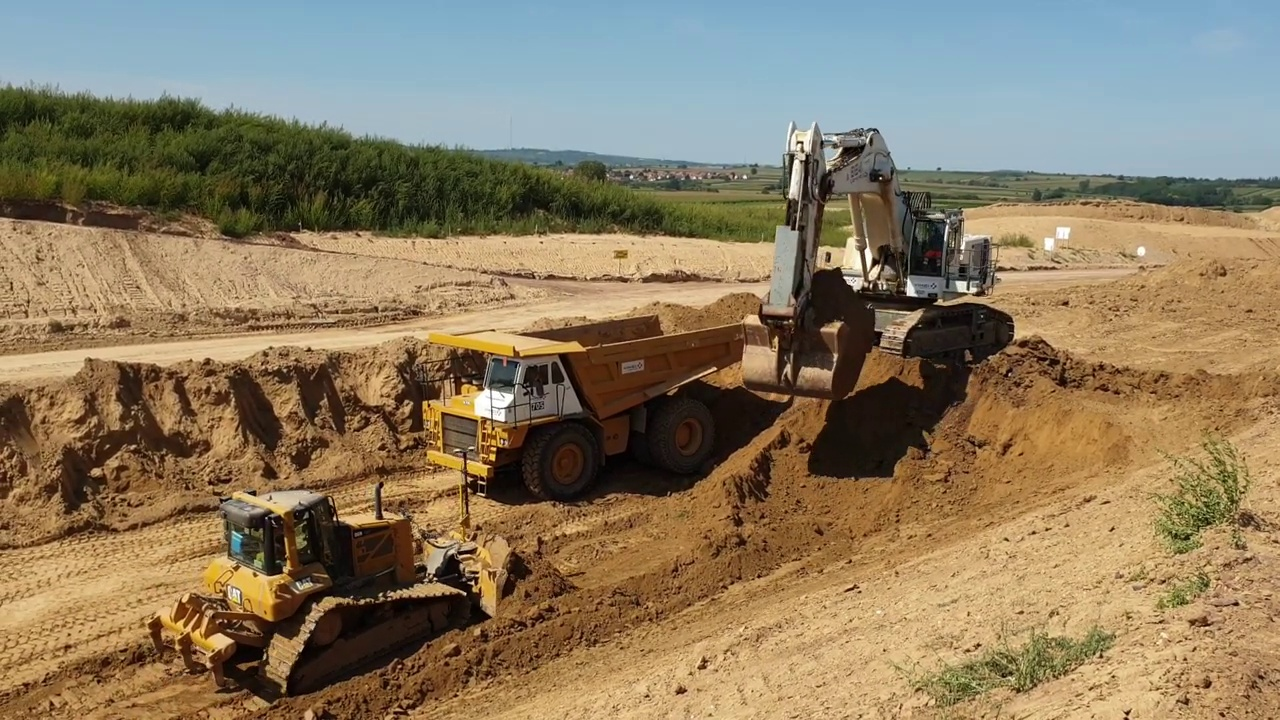bulldozer: (146, 443, 525, 700)
excavator: (740, 117, 1022, 409)
truck: (406, 309, 760, 507)
